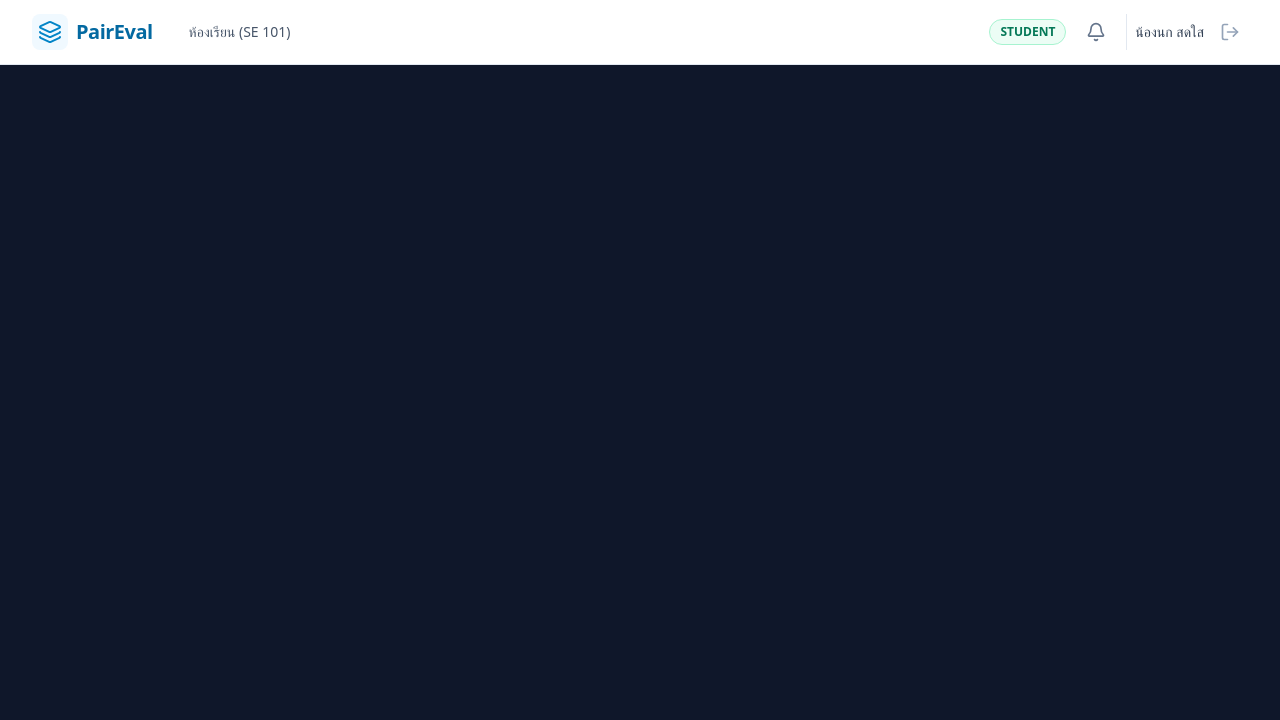
Test: Navbar Logout Confirmation › shows confirmation modal when clicking logout button and does not logout immediately
Click the button with test id "logout-btn".
click(1230, 32)  # box [1212,14,1248,50]
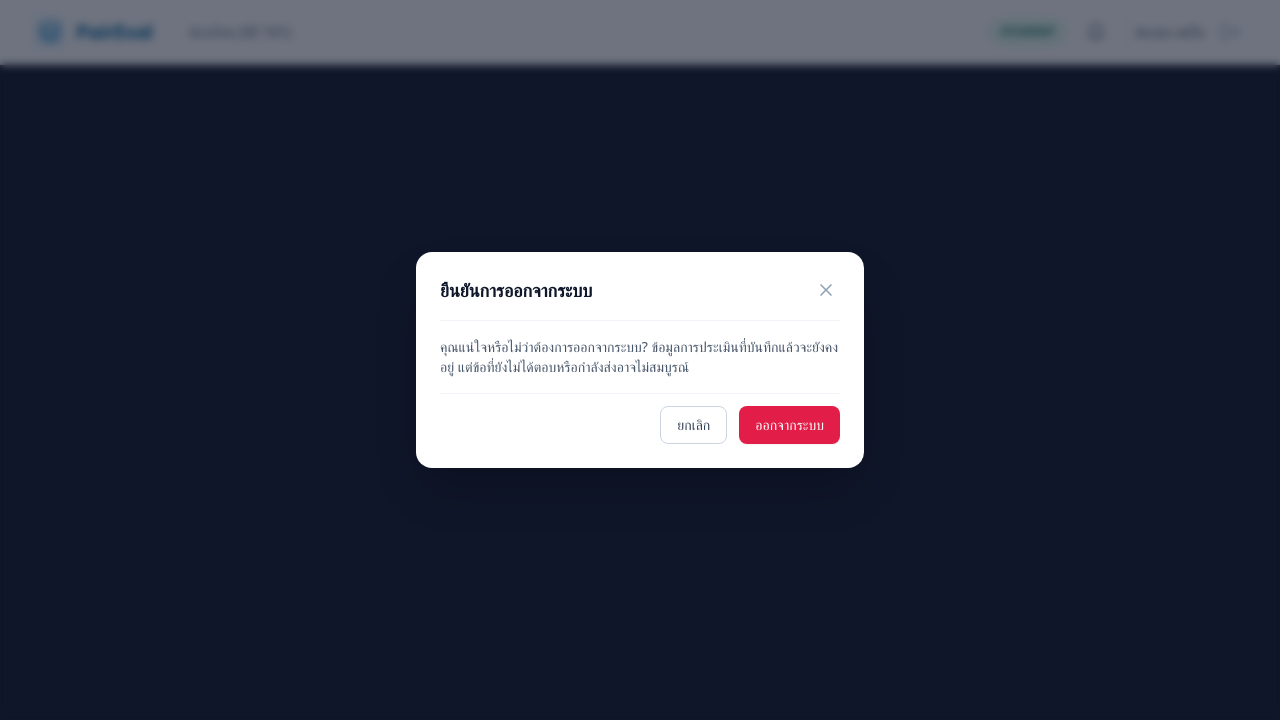
Expected: the heading "ยืนยันการออกจากระบบ" is shown, [440,276,592,304]
Expected: the text "คุณแน่ใจหรือไม่ว่าต้องการออกจากระบบ" is shown, [440,337,838,376]
